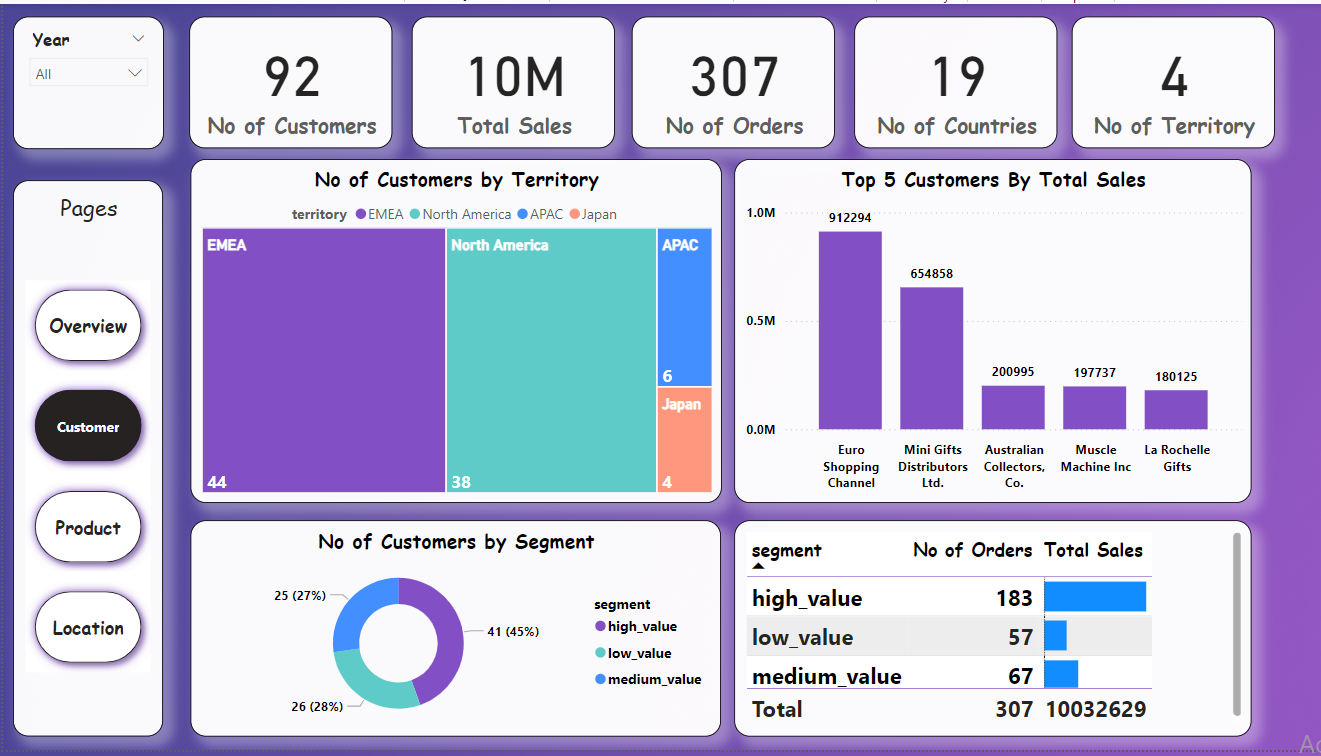

The page's visual inventory and layout, read from the dashboard file:
{"tool":"powerbi","page":{"name":"Customer","canvas":[1280,720],"ordinal":1},"visuals":[{"type":"card","fields":{"Values":["My Measures.No of Customers"]},"box":[180,12,196,127],"z":0},{"type":"card","fields":{"Values":["My Measures.Total Sales"]},"box":[394,12,196,127],"z":1000},{"type":"card","fields":{"Values":["My Measures.No of Orders"]},"box":[607,12,196,127],"z":2000},{"type":"card","fields":{"Values":["My Measures.No of Countries"]},"box":[821,12,196,127],"z":3000},{"type":"card","fields":{"Values":["My Measures.No of territory"]},"box":[1031,12,196,127],"z":4000},{"type":"textbox","box":[10,170,145,537],"z":5000},{"type":"treemap","title":"No of Customers by Territory","fields":{"Values":["My Measures.No of Customers"],"Group":["sales_data_sample(prepared).territory"]},"box":[180.9,149.5,512.6,331.7],"z":6000},{"type":"clusteredColumnChart","title":"Top 5 Customers By Total Sales","fields":{"Category":["sales_data_sample(prepared).customername"],"Y":["My Measures.Total Sales"]},"box":[705.5,149.5,499.3,331.7],"z":7000},{"type":"donutChart","title":"No of Customers by Segment","fields":{"Y":["My Measures.No of Customers"],"Category":["sales_data_sample(prepared).segment"]},"box":[181.1,498.1,511.8,208.6],"z":8000},{"type":"tableEx","fields":{"Values":["sales_data_sample(prepared).segment","My Measures.No of Orders","My Measures.Total Sales"]},"box":[705.5,498.1,499.3,208.6],"z":9000},{"type":"slicer","fields":{"Values":["sales_data_sample(prepared).year_id"]},"box":[9.6,12.1,145.9,127.8],"z":10000},{"type":"pageNavigator","box":[22,267,121,378],"z":11000}]}

Visuals, with their boxes in screenshot pixels (x1, y1, x2, y2), scaled from the page's 1280x720 canvas onto the 1321x756 screenshot:
card - My Measures.No of Customers: (186, 13, 388, 146)
card - My Measures.Total Sales: (407, 13, 609, 146)
card - My Measures.No of Orders: (626, 13, 829, 146)
card - My Measures.No of Countries: (847, 13, 1050, 146)
card - My Measures.No of territory: (1064, 13, 1266, 146)
textbox: (10, 178, 160, 742)
"No of Customers by Territory" treemap: (187, 157, 716, 505)
"Top 5 Customers By Total Sales" clusteredColumnChart: (728, 157, 1243, 505)
"No of Customers by Segment" donutChart: (187, 523, 715, 742)
tableEx - sales_data_sample(prepared).segment x My Measures.No of Orders: (728, 523, 1243, 742)
slicer - sales_data_sample(prepared).year_id: (10, 13, 160, 147)
pageNavigator: (23, 280, 148, 677)
